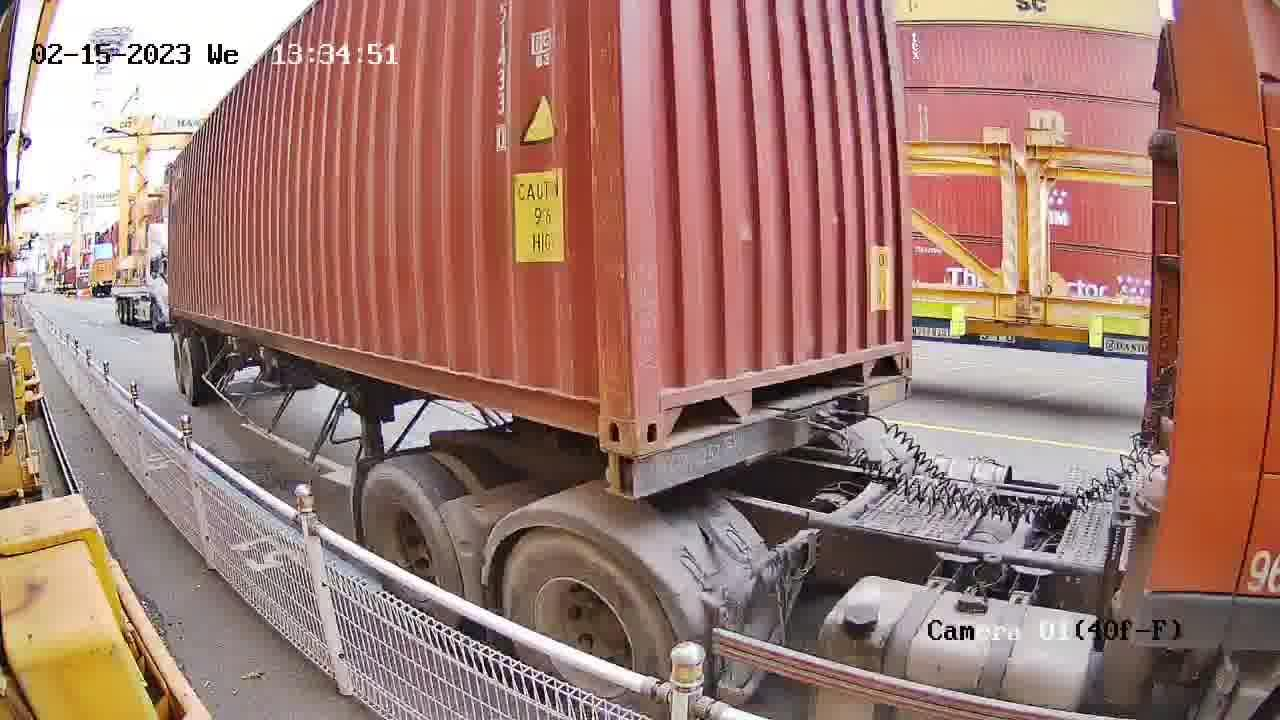Chassis: (635, 378, 913, 497)
Cone: (610, 455, 640, 499)
Hole_L: (636, 371, 699, 461)
Hole_R: (574, 376, 637, 454), (879, 315, 914, 387)
Tire: (502, 534, 669, 675), (358, 467, 462, 595)
